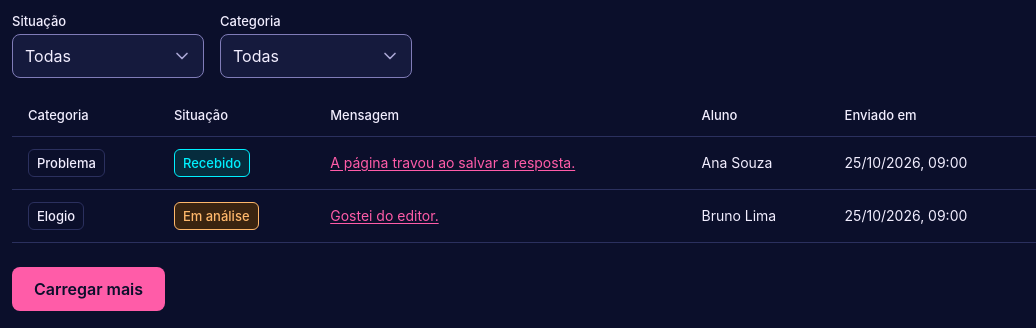
020/US2 lista de feedbacks do ADMIN › 020/US2-1 mostra categoria, situação em palavras, trecho, aluno e data, com link para o detalhe; Carregar mais
Check: the text "Problema" is shown, box [28, 149, 105, 177]
Check: the text "Recebido" is shown, box [174, 149, 250, 177]
Click the button "Carregar mais" at (89, 289), box [12, 267, 165, 311]
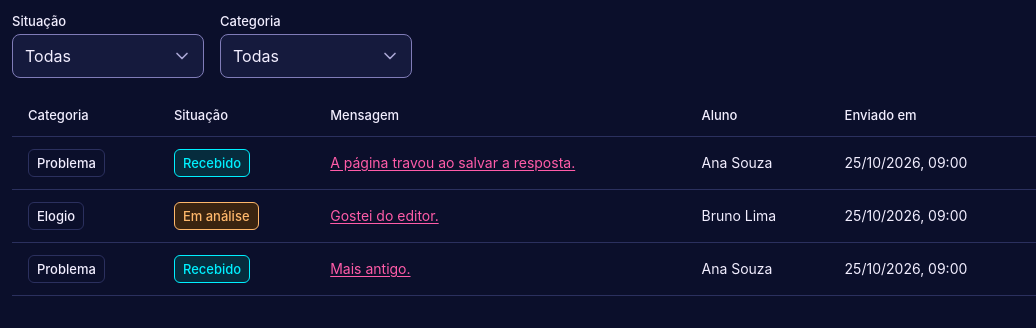
Check: the link "Mais antigo." is shown, box [330, 260, 410, 277]
Check: the button "Carregar mais" is gone
